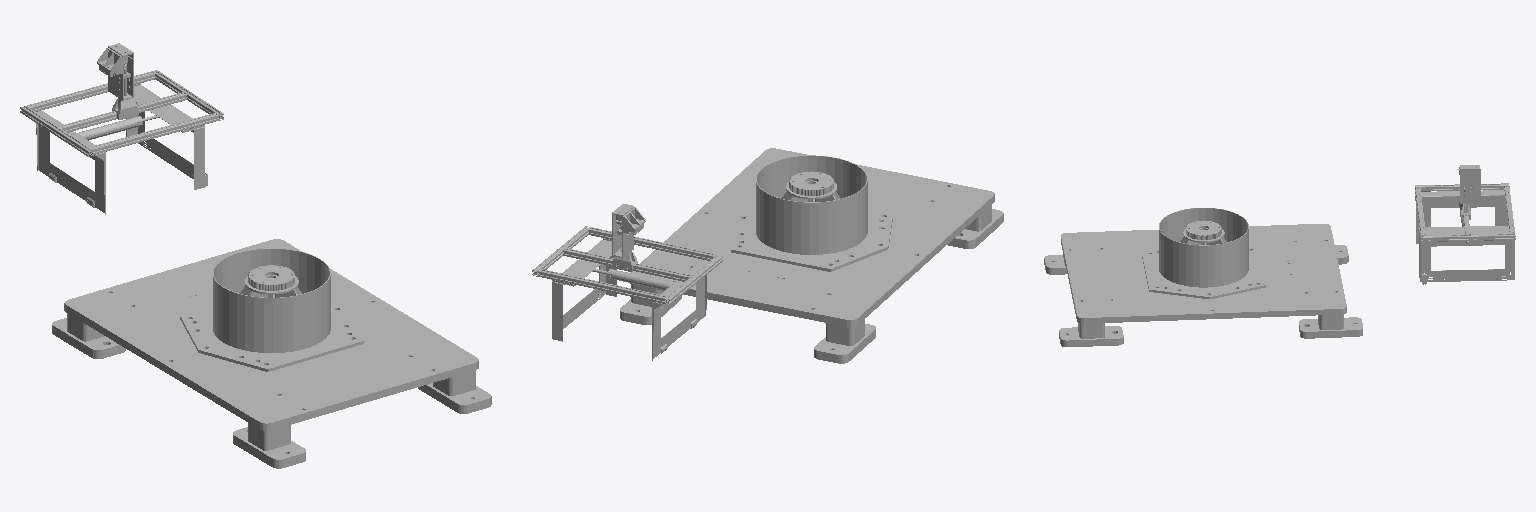
URDF robot description (boxbot):
<?xml version="1.0" ?>
<!-- =================================================================================== -->
<!-- |    This document was autogenerated by xacro from boxbot.xacro                   | -->
<!-- |    EDITING THIS FILE BY HAND IS NOT RECOMMENDED                                 | -->
<!-- =================================================================================== -->
<robot name="boxbot">
  <gazebo>
    <plugin filename="libgazebo_ros_control.so" name="gazebo_ros_control">
      <robotNamespace>/boxbot</robotNamespace>
      <robotSimType>gazebo_ros_control/DefaultRobotHWSim</robotSimType>
    </plugin>
  </gazebo>
  <link name="world"/>
  <joint name="virtual_joint" type="fixed">
    <parent link="world"/>
    <child link="base_link"/>
    <origin rpy="0 0 0" xyz="0 0 0"/>
  </joint>
  <link name="base_link">
    <inertial>
      <origin rpy="0 0 0" xyz="1.21161602598674E-05 -0.000141697234924631 0.115075250920086"/>
      <mass value="42.7823329299279"/>
      <inertia ixx="2.3137133186018" ixy="0.0758431395924076" ixz="-1.56977697384168E-07" iyy="1.43328003600734" iyz="1.83584220863051E-06" izz="3.73773799217461"/>
    </inertial>
    <visual>
      <origin rpy="0 0 0" xyz="0 0 0.15897"/>
      <geometry>
        <mesh filename="package://boxbot_description/meshes/base_link.STL"/>
      </geometry>
      <material name="">
        <color rgba="0.752941176470588 0.752941176470588 0.752941176470588 1"/>
      </material>
    </visual>
    <collision>
      <origin rpy="0 0 0" xyz="0 0 0.15897"/>
      <geometry>
        <mesh filename="package://boxbot_description/meshes/base_link.STL"/>
      </geometry>
    </collision>
  </link>
  <link name="tower_link">
    <inertial>
      <origin rpy="0 0 0" xyz="-0.00148764220555564 -0.00430184829877756 0.780186947697388"/>
      <mass value="32.2621346397055"/>
      <inertia ixx="5.83539245387147" ixy="0.000842169945369176" ixz="0.00017449730709294" iyy="5.79696379893898" iyz="0.000216570416594675" izz="0.0782122151057882"/>
    </inertial>
    <visual>
      <origin rpy="0 0 0" xyz="0 0 1.005"/>
      <geometry>
        <mesh filename="package://boxbot_description/meshes/tower_link.STL"/>
      </geometry>
      <material name="">
        <color rgba="0.752941176470588 0.752941176470588 0.752941176470588 1"/>
      </material>
    </visual>
    <collision>
      <origin rpy="0 0 0" xyz="0 0 1.005"/>
      <geometry>
        <mesh filename="package://boxbot_description/meshes/tower_link.STL"/>
      </geometry>
    </collision>
  </link>
  <joint name="base_tower_joint" type="revolute">
    <origin rpy="0 0 0.051195" xyz="0 0 0.3145"/>
    <parent link="base_link"/>
    <child link="tower_link"/>
    <axis xyz="0 0 1"/>
    <limit effort="100" lower="-3.14" upper="3.14" velocity="0.046"/>
  </joint>
  <link name="arm_link">
    <inertial>
      <origin rpy="0 0 0" xyz="0.038387800107173 0.392080597458587 0.106253703611536"/>
      <mass value="7.90977803912173"/>
      <inertia ixx="1.3964597770644" ixy="-0.00570272799674222" ixz="0.00312455918060977" iyy="0.0281361548287597" iyz="0.0390219048580493" izz="1.37349990251812"/>
    </inertial>
    <visual>
      <origin rpy="0 0 0" xyz="0.038 0.34207 0.156705"/>
      <geometry>
        <mesh filename="package://boxbot_description/meshes/arm_link.STL"/>
      </geometry>
      <material name="">
        <color rgba="0.752941176470588 0.752941176470588 0.752941176470588 1"/>
      </material>
    </visual>
    <collision>
      <origin rpy="0 0 0" xyz="0.038 0.34207 0.156705"/>
      <geometry>
        <mesh filename="package://boxbot_description/meshes/arm_link.STL"/>
      </geometry>
    </collision>
  </link>
  <joint name="tower_arm_joint" type="prismatic">
    <origin rpy="0 0 0" xyz="0.0599999999997043 0.0269999999998549 0.1372182458184"/>
    <parent link="tower_link"/>
    <child link="arm_link"/>
    <axis xyz="0 0 1"/>
    <limit effort="100" lower="0" upper="1.57" velocity="0.00298"/>
  </joint>
  <link name="wrist_link">
    <inertial>
      <origin rpy="0 0 0" xyz="0.0310886914761871 -0.00055357042962885 -0.0008145171529782"/>
      <mass value="0.252648442993223"/>
      <inertia ixx="0.000406659062862429" ixy="-1.29227360078791E-07" ixz="-3.09220823927946E-06" iyy="0.000344866185048593" iyz="6.17525359286755E-07" izz="0.000152631223532851"/>
    </inertial>
    <visual>
      <origin rpy="0 0 0" xyz="0.02225 0 -0.01975"/>
      <geometry>
        <mesh filename="package://boxbot_description/meshes/wrist_link.STL"/>
      </geometry>
      <material name="">
        <color rgba="0.752941176470588 0.752941176470588 0.752941176470588 1"/>
      </material>
    </visual>
    <collision>
      <origin rpy="0 0 0" xyz="0.02225 0 -0.01975"/>
      <geometry>
        <mesh filename="package://boxbot_description/meshes/wrist_link.STL"/>
      </geometry>
    </collision>
  </link>
  <joint name="arm_wrist_joint" type="prismatic">
    <origin rpy="0 0 0" xyz="0.0339999999999955 1.0092199835170599 0.108999999999999"/>
    <parent link="arm_link"/>
    <child link="wrist_link"/>
    <axis xyz="0 -1 0"/>
    <limit effort="100" lower="0" upper="0.7979" velocity="0.045"/>
  </joint>
  <link name="hand_link">
    <inertial>
      <origin rpy="0 0 0" xyz="-7.35310108845866E-06 -1.60996144753234E-06 -0.0649812985906855"/>
      <mass value="0.0101760116822838"/>
      <inertia ixx="1.43633392907582E-05" ixy="6.35605424668044E-11" ixz="-3.55573648010034E-09" iyy="1.4363062814601E-05" iyz="-7.78714263202763E-10" izz="1.26970538556033E-07"/>
    </inertial>
    <visual>
      <origin rpy="0 0 0" xyz="0 0 -0.065"/>
      <geometry>
        <mesh filename="package://boxbot_description/meshes/hand_link.STL"/>
      </geometry>
      <material name="">
        <color rgba="0.752941176470588 0.752941176470588 0.752941176470588 1"/>
      </material>
    </visual>
    <collision>
      <origin rpy="0 0 0" xyz="0 0 -0.065"/>
      <geometry>
        <mesh filename="package://boxbot_description/meshes/hand_link.STL"/>
      </geometry>
    </collision>
  </link>
  <joint name="wrist_hand_joint" type="revolute">
    <origin rpy="0 0 0" xyz="0.0465 -0.00915 -0.0018"/>
    <parent link="wrist_link"/>
    <child link="hand_link"/>
    <axis xyz="0 0 1"/>
    <limit effort="100" lower="-1.57" upper="1.57" velocity="0.63"/>
  </joint>
  <link name="gripper_link">
    <inertial>
      <origin rpy="0 0 0" xyz="-0.0032546411241845 -0.000648008057776719 -0.110079171281878"/>
      <mass value="0.72267856807254"/>
      <inertia ixx="0.0289006606354982" ixy="-1.66588317728096E-09" ixz="0.000784548491452252" iyy="0.0110294748047172" iyz="7.89243454897512E-09" izz="0.0263921467919252"/>
    </inertial>
    <visual>
      <origin rpy="0 0 0" xyz="-0.0109 0 -0.136985"/>
      <geometry>
        <mesh filename="package://boxbot_description/meshes/gripper_link.STL"/>
      </geometry>
      <material name="">
        <color rgba="0.752941176470588 0.752941176470588 0.752941176470588 1"/>
      </material>
    </visual>
    <collision>
      <origin rpy="0 0 0" xyz="-0.0109 0 -0.136985"/>
      <geometry>
        <mesh filename="package://boxbot_description/meshes/gripper_link.STL"/>
      </geometry>
    </collision>
  </link>
  <joint name="hand_gripper_joint" type="fixed">
    <origin rpy="0 0 0" xyz="0 0 -0.094247"/>
    <parent link="hand_link"/>
    <child link="gripper_link"/>
    <axis xyz="0 0 0"/>
  </joint>
  <transmission name="tran1">
    <type>transmission_interface/SimpleTransmission</type>
    <joint name="base_tower_joint">
      <hardwareInterface>hardware_interface/VelocityJointInterface</hardwareInterface>
    </joint>
    <actuator name="base_tower_joint_motor">
      <mechanicalReduction>1</mechanicalReduction>
    </actuator>
  </transmission>
  <transmission name="tran2">
    <type>transmission_interface/SimpleTransmission</type>
    <joint name="tower_arm_joint">
      <hardwareInterface>hardware_interface/VelocityJointInterface</hardwareInterface>
    </joint>
    <actuator name="tower_arm_joint_motor">
      <mechanicalReduction>1</mechanicalReduction>
    </actuator>
  </transmission>
  <transmission name="tran3">
    <type>transmission_interface/SimpleTransmission</type>
    <joint name="arm_wrist_joint">
      <hardwareInterface>hardware_interface/VelocityJointInterface</hardwareInterface>
    </joint>
    <actuator name="arm_wrist_joint_motor">
      <mechanicalReduction>1</mechanicalReduction>
    </actuator>
  </transmission>
  <!--<transmission name="tran4">
        <type>transmission_interface/SimpleTransmission</type>
        <joint name="wrist_hand_joint">
            <hardwareInterface>hardware_interface/VelocityJointInterface</hardwareInterface>
        </joint>
        <actuator name="wrist_hand_joint_motor">
            <mechanicalReduction>1</mechanicalReduction>
        </actuator>
    </transmission>-->
</robot>

--- Facts derived from the render (not from the file) ---
Views: 3 orthographic renders of the robot side by side, from view 1: azimuth 30°, elevation 25°; view 2: azimuth 150°, elevation 25°; view 3: azimuth 270°, elevation 25°.
Robot: boxbot — 7 links, 6 joints (2 revolute, 2 prismatic, 2 fixed); root link world; default pose: every joint at zero.
Visible links, largest first — view 1: base_link, gripper_link, wrist_link; view 2: base_link, gripper_link, wrist_link; view 3: base_link, gripper_link, wrist_link.
Link boxes in pixels (left/top/right/bottom): base_link: left=52, top=239, right=491, bottom=468; gripper_link: left=20, top=70, right=223, bottom=214; wrist_link: left=97, top=43, right=133, bottom=100; base_link: left=620, top=148, right=1003, bottom=363; gripper_link: left=532, top=226, right=722, bottom=360; wrist_link: left=612, top=204, right=645, bottom=257; base_link: left=1044, top=208, right=1362, bottom=346; gripper_link: left=1415, top=183, right=1515, bottom=284; wrist_link: left=1457, top=165, right=1480, bottom=203.
Bounding box of the posed robot: 0.8951 × 1.86 × 0.617 m (x, y, z).
4 mesh visuals loaded from 6 distinct referenced files (4 binary STL); not drawn: 2 (reference not matched to a file when rendering).
